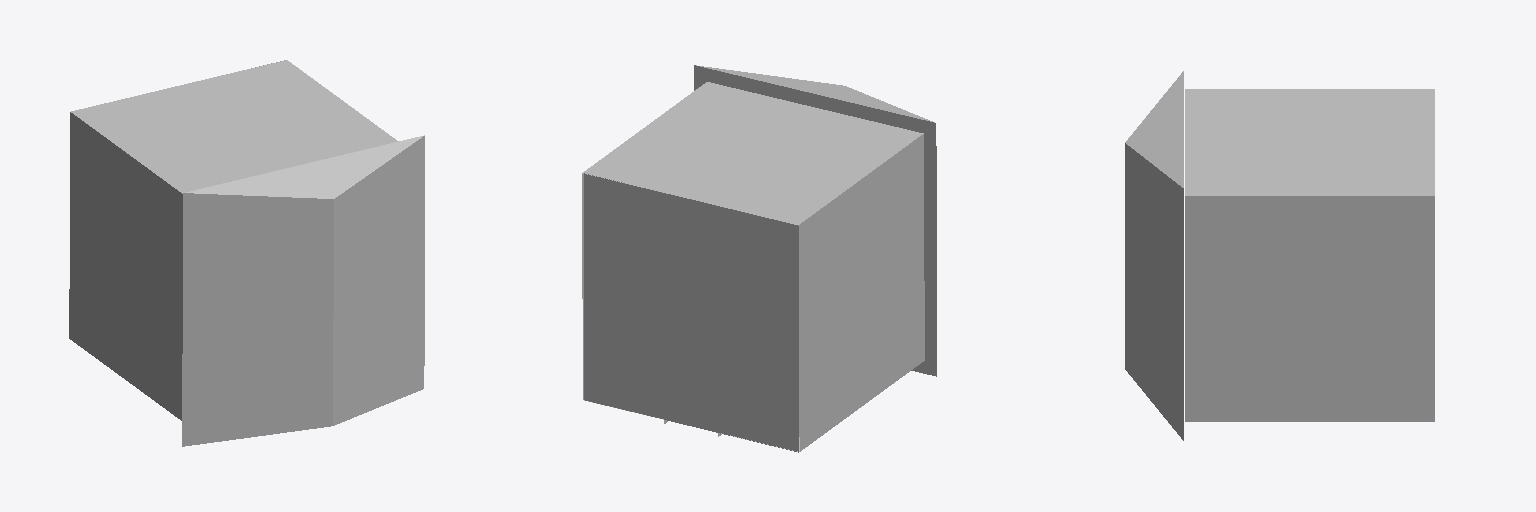
File: crappy house.obj
3 views of the same model, side by side, from view 1: azimuth 30°, elevation 25°; view 2: azimuth 150°, elevation 25°; view 3: azimuth 270°, elevation 25° (orthographic).
Visible parts, largest first — view 1: Cube_Cube.001; view 2: Cube_Cube.001; view 3: Cube_Cube.001.
Boxes of the visible parts, <box> form: Cube_Cube.001: <box>69,60,424,446</box>; Cube_Cube.001: <box>582,65,936,452</box>; Cube_Cube.001: <box>1125,71,1434,440</box>.
Size of the model in its own units: 0.8262 by 0.8262 by 0.9115.